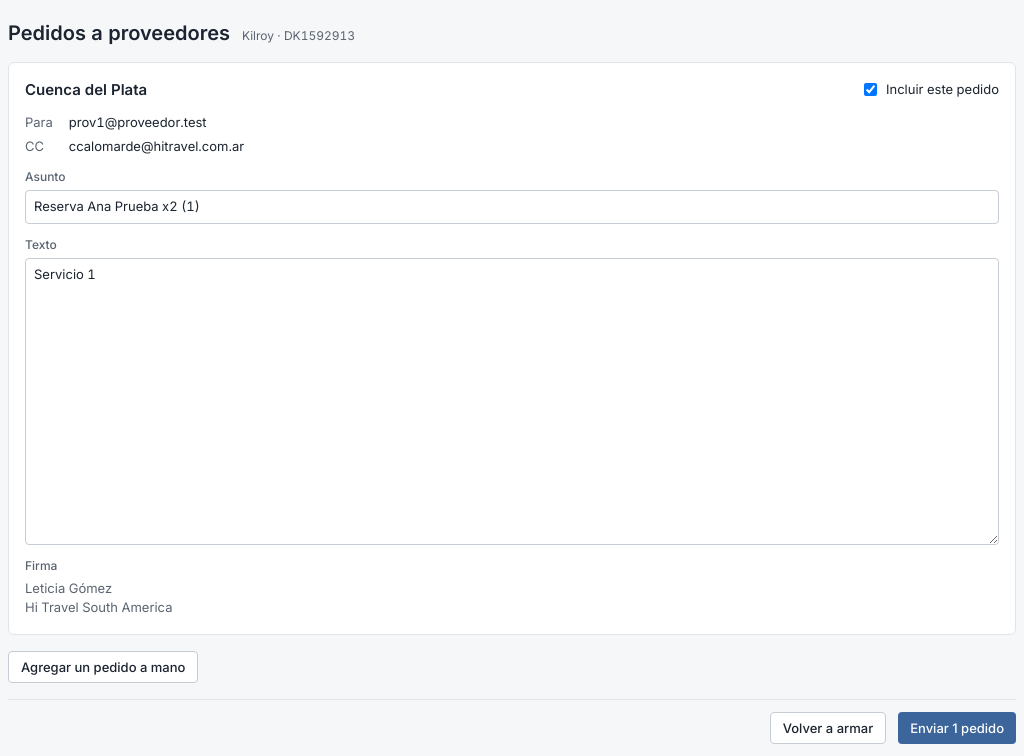
Test: el formulario (filas 2 y 3) › arranca con el asunto y el texto de la plantilla; la firma de siempre
(page scrolled)
Click the button "Agregar un pedido a mano". click: coordinates (103, 666)
box: [8, 650, 198, 682]
(page scrolled)
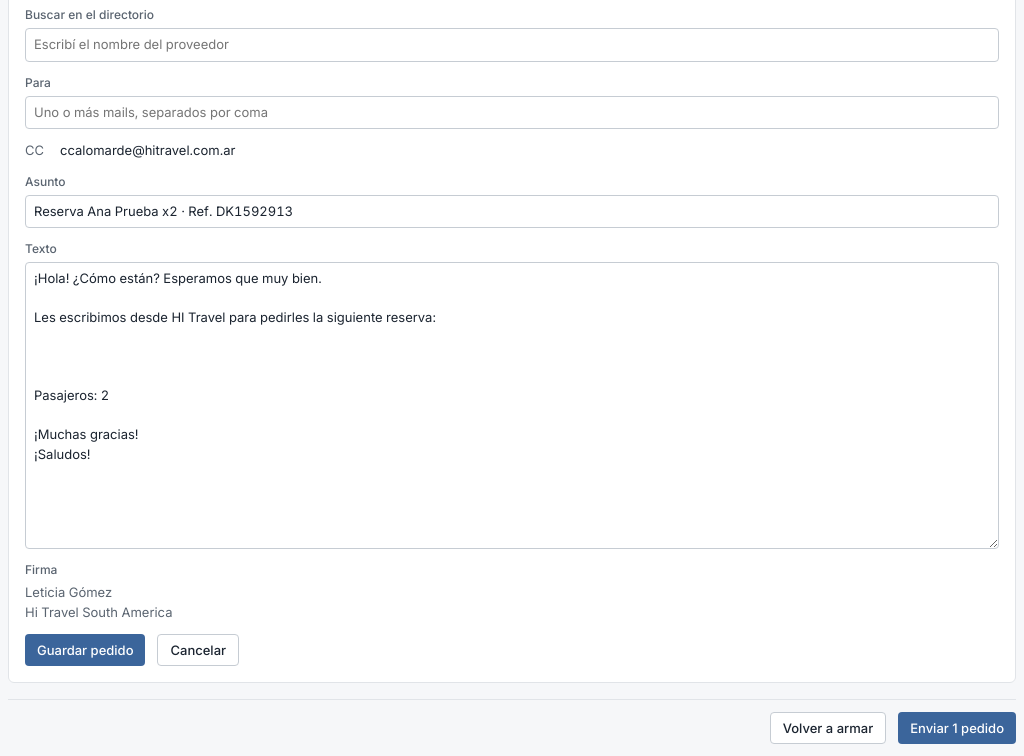
Expected: the field labelled "Asunto" holds "Reserva Ana Prueba x2 · Ref. DK1592913", [25, 194, 999, 228]
Expected: the text "Leticia Gómez Hi Travel South America" is shown, [25, 584, 172, 620]
Expected: the button "Agregar un pedido a mano" is gone
Click the button "Cancelar". click: coordinates (198, 650)
box: [158, 634, 239, 666]
(page scrolled)
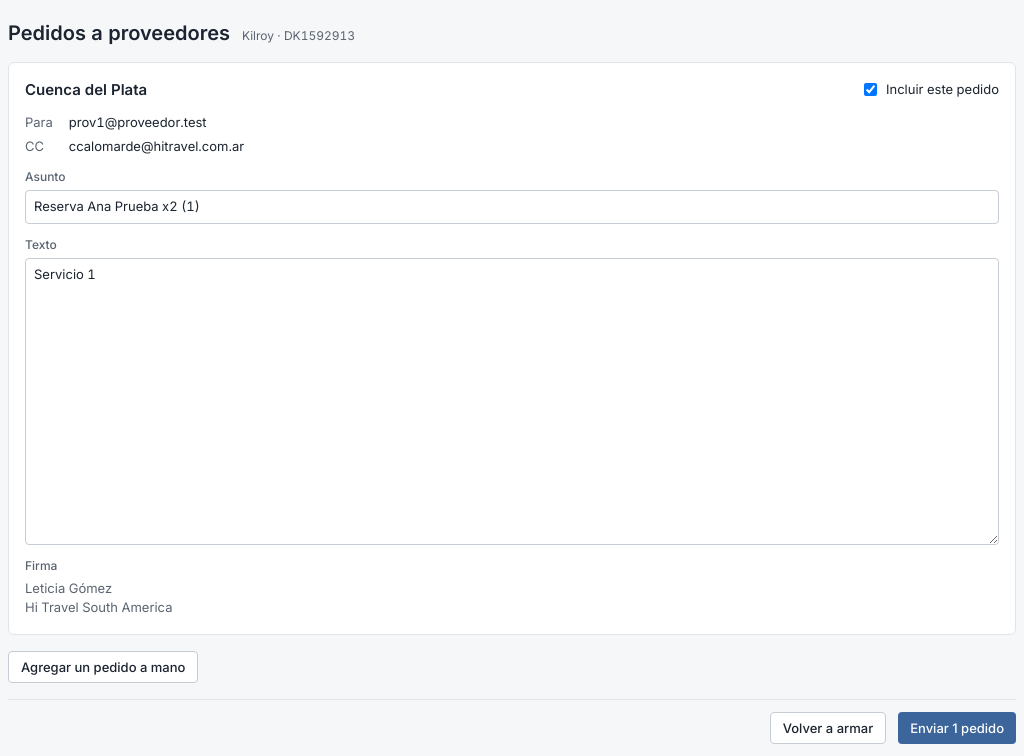
Expected: the button "Agregar un pedido a mano" is shown, [8, 650, 198, 682]
